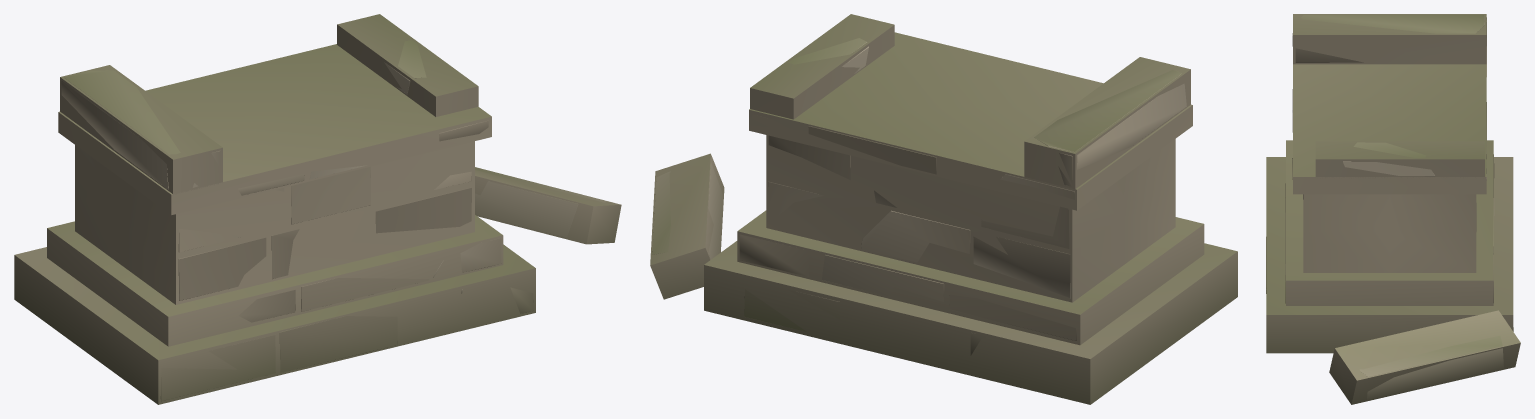
File: agora_altar.glb
The picture shows the model from 3 angles, left to right: view 1: azimuth 30°, elevation 25°; view 2: azimuth 150°, elevation 25°; view 3: azimuth 270°, elevation 25°; orthographic projection. The views are drawn at different scales.
Visible parts, largest first — view 1: agora_altar_far, agora_altar; view 2: agora_altar_far, agora_altar; view 3: agora_altar_far, agora_altar.
Boxes of the visible parts, x1=… form: agora_altar_far: x1=14, y1=14, x2=621, y2=404; agora_altar: x1=61, y1=40, x2=607, y2=401; agora_altar_far: x1=650, y1=14, x2=1237, y2=404; agora_altar: x1=652, y1=38, x2=1186, y2=355; agora_altar_far: x1=1266, y1=14, x2=1520, y2=404; agora_altar: x1=1266, y1=15, x2=1513, y2=399.
Bounding box in the file's own units: 14.49 × 6.09 × 7.23.
